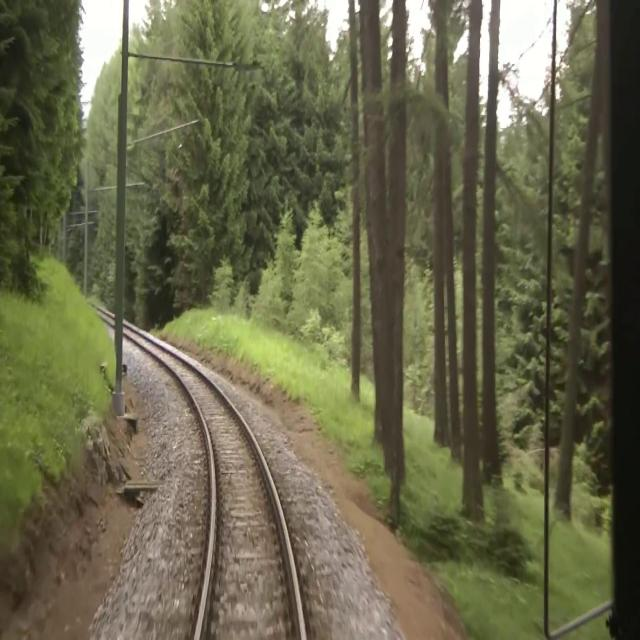rail-track: (123, 326, 301, 639), (89, 307, 113, 322)
